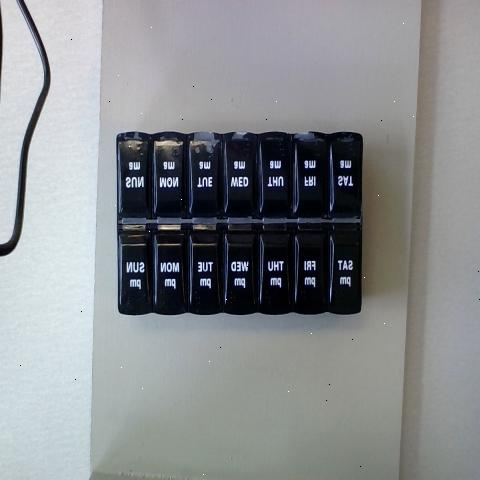FRI-am: (297, 130, 329, 216)
FRI-pm: (294, 223, 332, 311)
MON-am: (153, 132, 188, 213)
MON-pm: (155, 227, 189, 311)
PillBox: (105, 94, 378, 339)
SAT-am: (330, 132, 362, 215)
SAT-pm: (330, 224, 359, 313)
SUN-am: (118, 132, 152, 218)
SUN-pm: (121, 222, 155, 308)
THU-am: (262, 134, 293, 214)
THU-pm: (258, 223, 298, 314)
TUE-am: (191, 132, 224, 218)
TUE-pm: (191, 223, 226, 310)
WED-am: (225, 132, 260, 219)
WED-pm: (223, 230, 258, 313)
